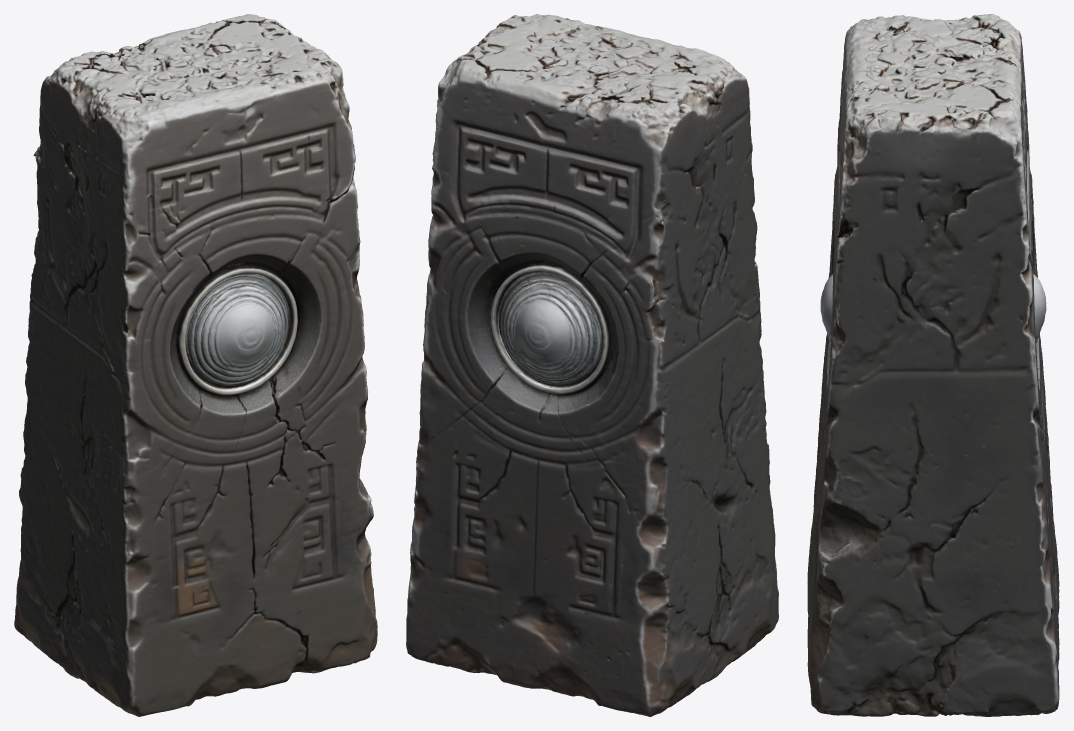
Rendered from Meshy_AI_Ancient_Stone_Relic_1016090341_texture.fbx.
The picture shows the model from 3 angles, left to right: view 1: azimuth 30°, elevation 25°; view 2: azimuth 150°, elevation 25°; view 3: azimuth 270°, elevation 25°; orthographic projection.
Parts seen in each view (by area): view 1: Mesh_0; view 2: Mesh_0; view 3: Mesh_0.
Part boxes in pixels (box(x1,y1,x2,y2)): Mesh_0: box(14, 14, 377, 716); Mesh_0: box(406, 14, 778, 716); Mesh_0: box(807, 14, 1059, 716).
Size of the model in its own units: 88.68 by 190 by 73.46.
1 material, 1 textured.
